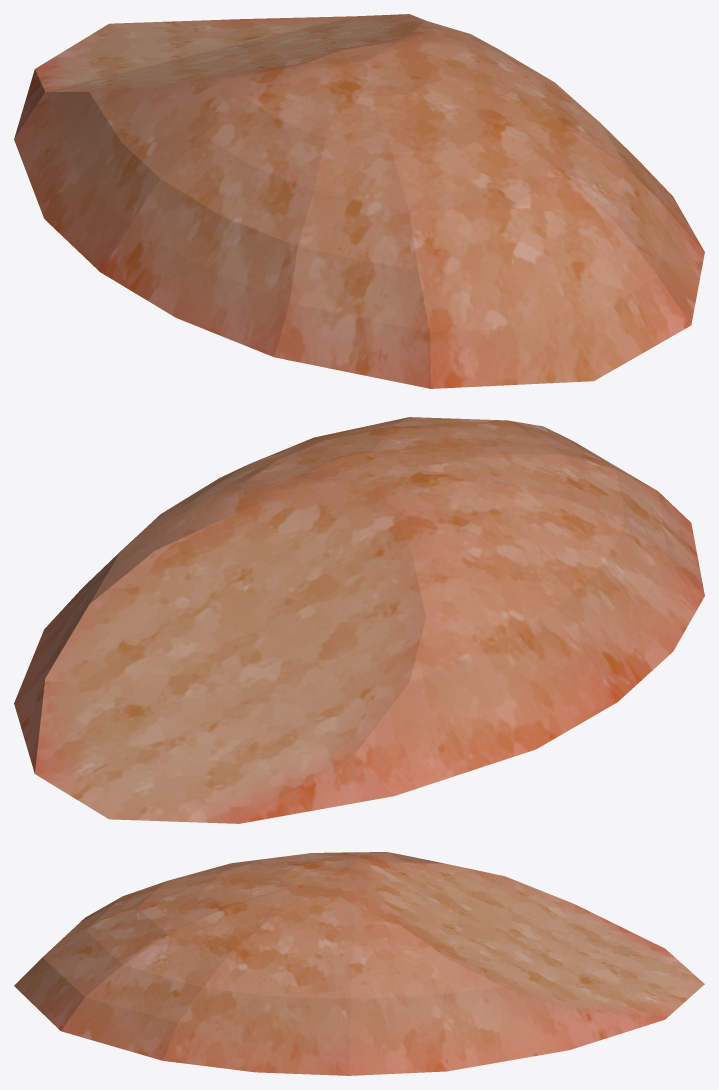
The model's file is dunes_sand_left.fbx.
3 renders of one model, top to bottom at view 1: azimuth 30°, elevation 25°; view 2: azimuth 150°, elevation 25°; view 3: azimuth 270°, elevation 25°, orthographic. The views are drawn at different scales.
Parts seen in each view (by area): view 1: dunes_sand_left; view 2: dunes_sand_left; view 3: dunes_sand_left.
Part boxes in pixels (box(x1,y1,x2,y2)): dunes_sand_left: box(14, 14, 704, 388); dunes_sand_left: box(14, 417, 704, 823); dunes_sand_left: box(14, 852, 704, 1075).
Size of the model in its own units: 1109 by 313 by 1800.
